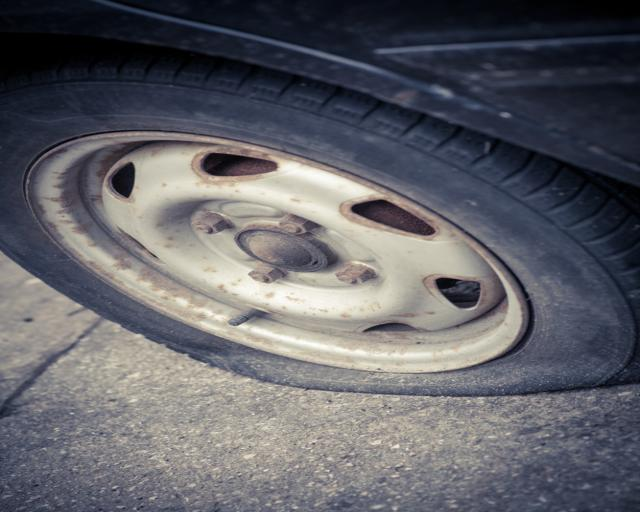tire flat: (0, 35, 640, 398)
